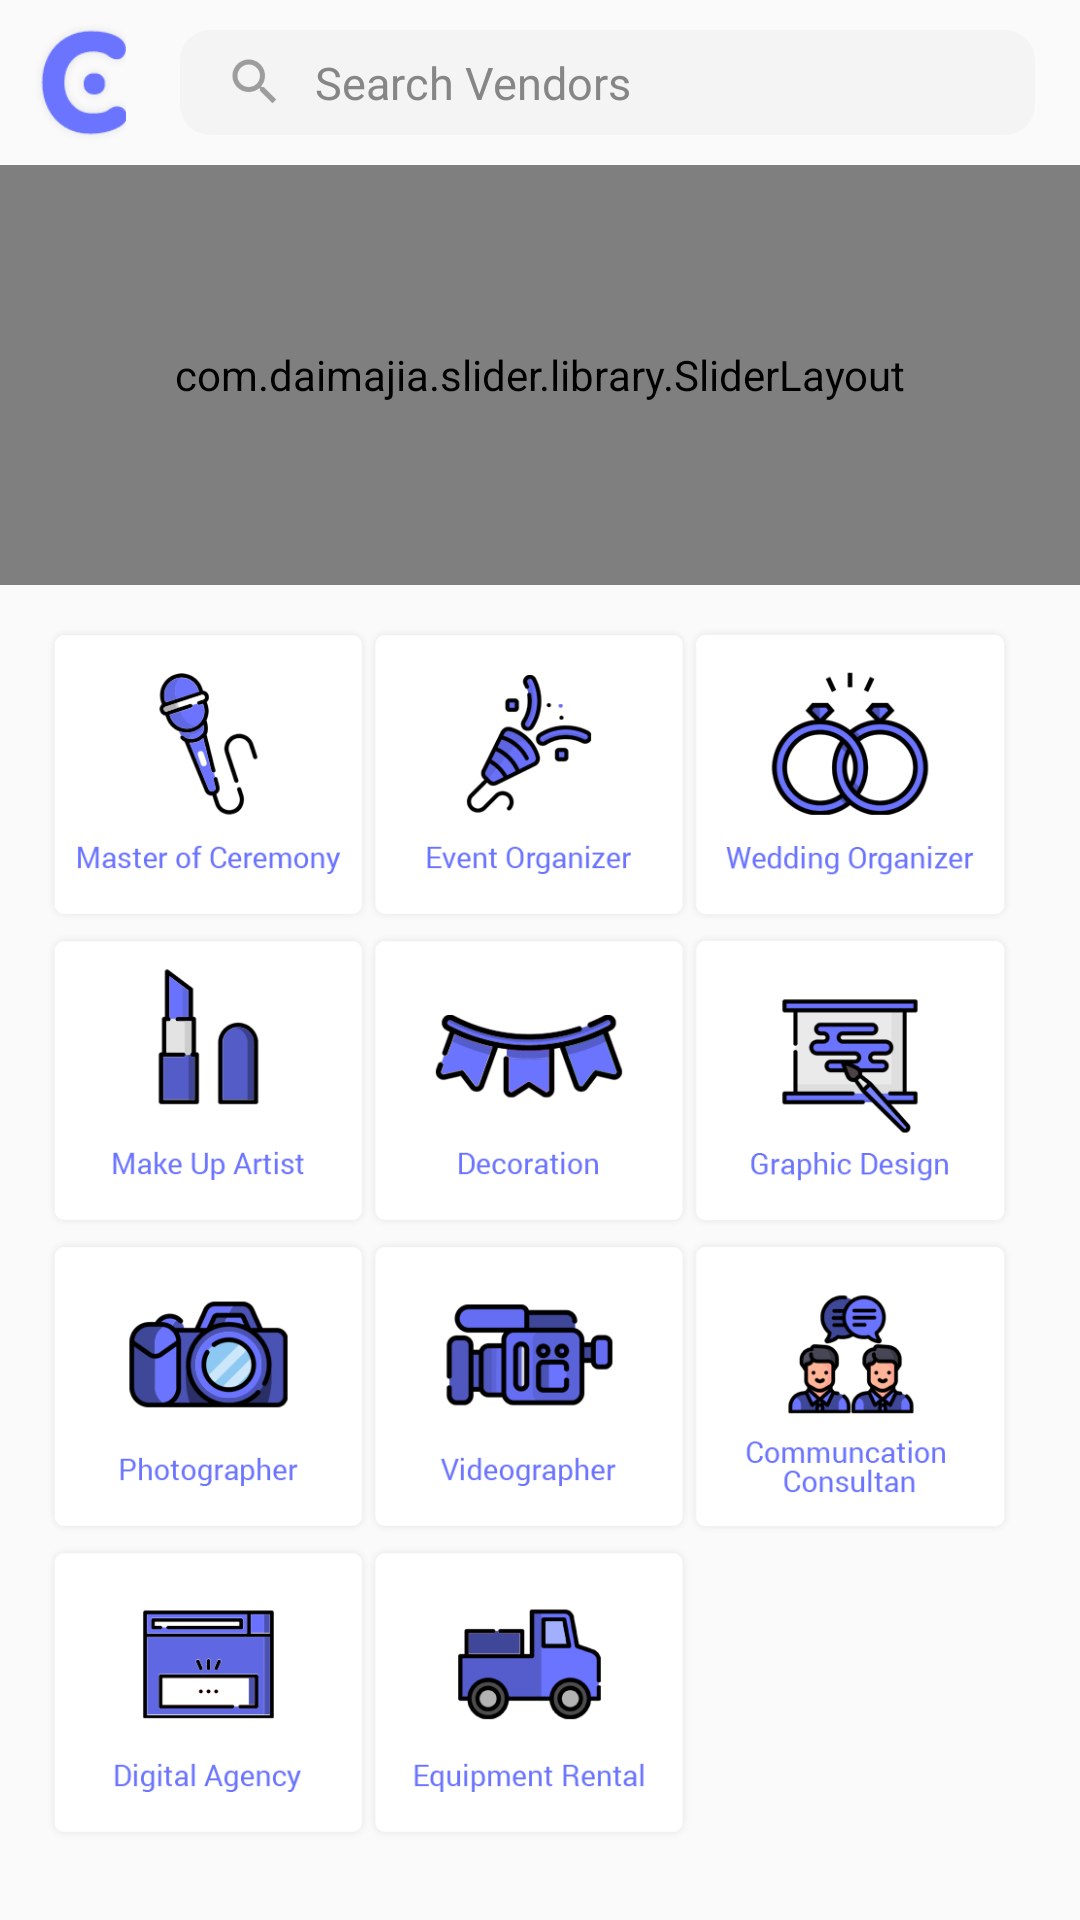

Icon bounding boxes for this 1080 x 1920 phone screenshot, format {"left": x1, "top": y1, "right": x2, "bottom": y2}:
search top home: {"left": 232, "top": 59, "right": 276, "bottom": 103}
